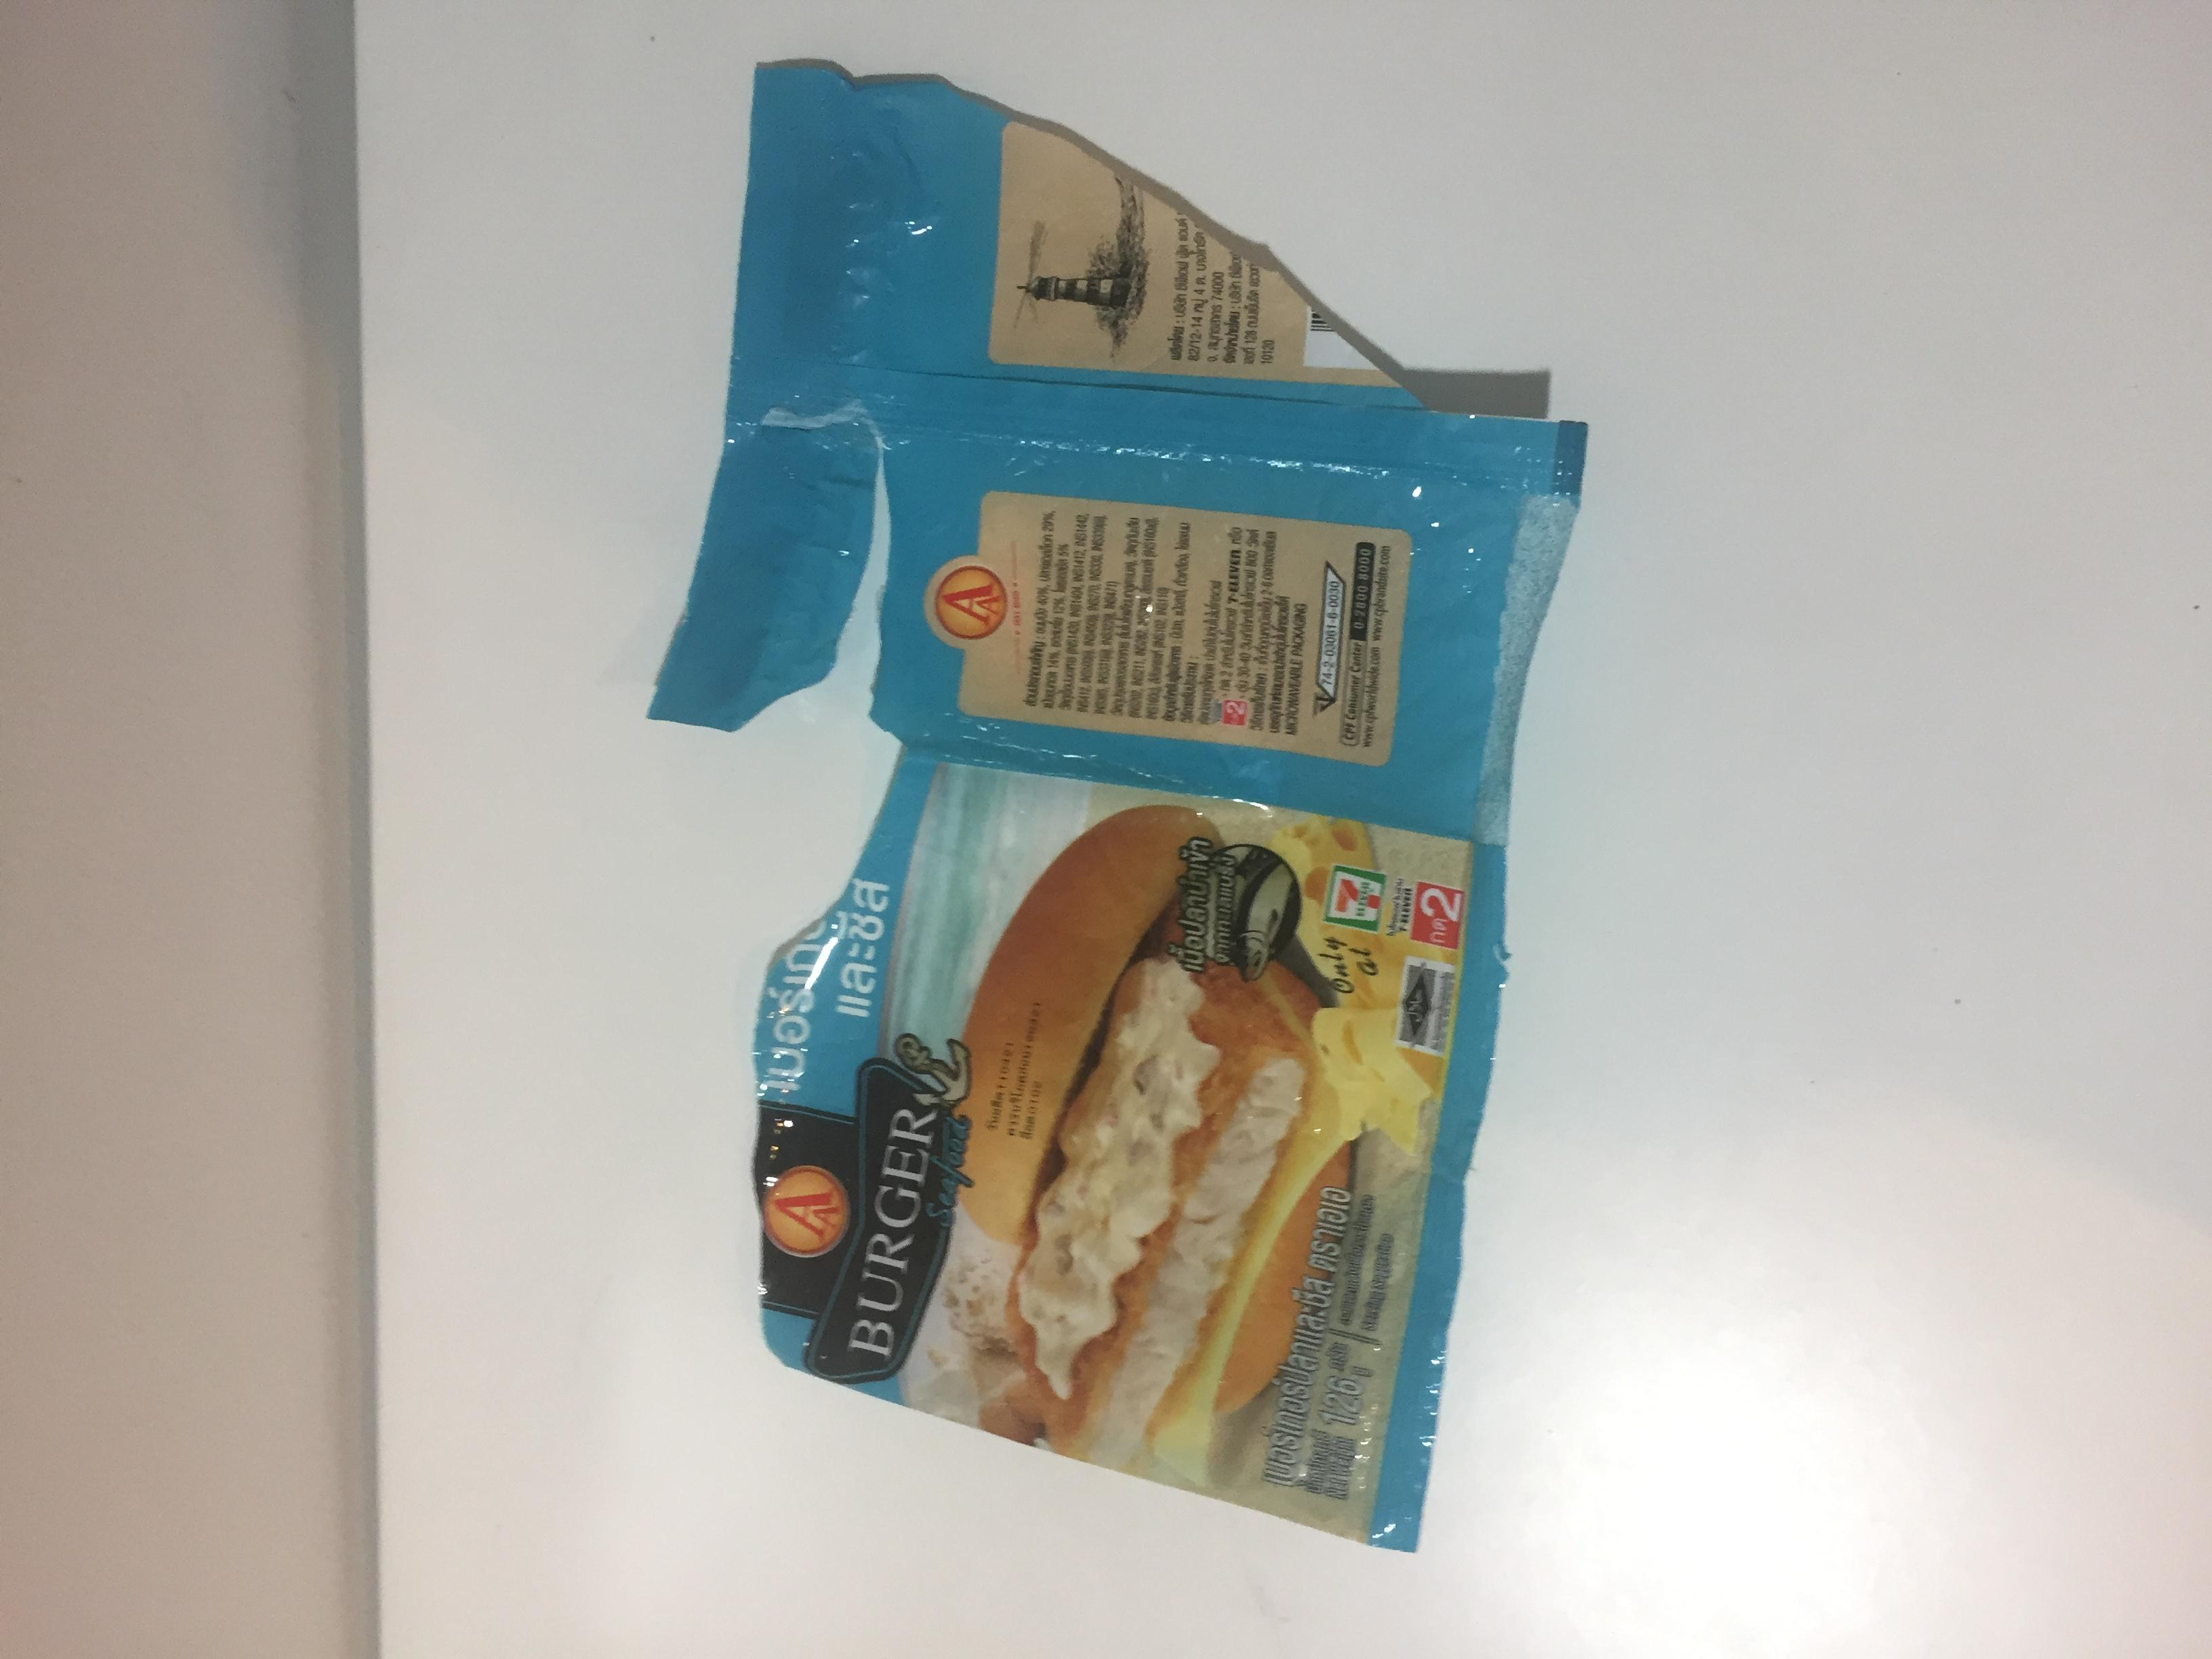plastic: (110, 457, 2137, 1253), (124, 472, 1181, 1243)
